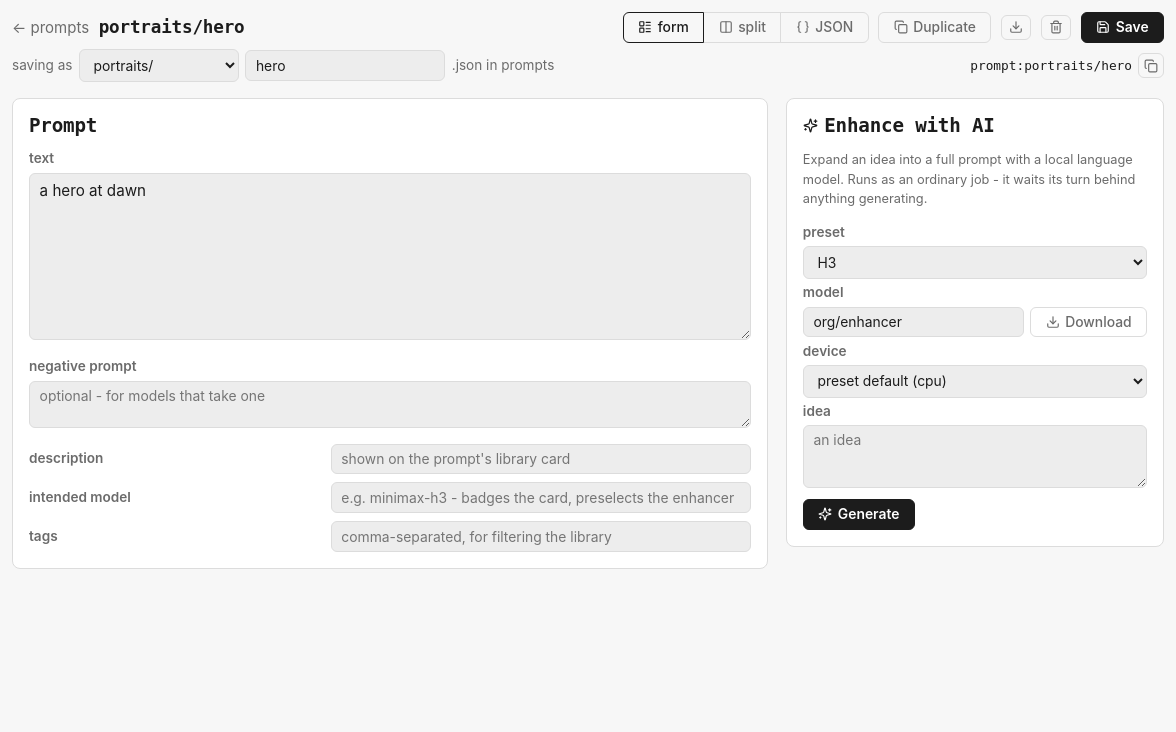
keeps an edit across form -> JSON -> form
Replace the text in the text box labelled "text" with "a hero at dusk" at (390, 257), box 29,173 -> 751,340
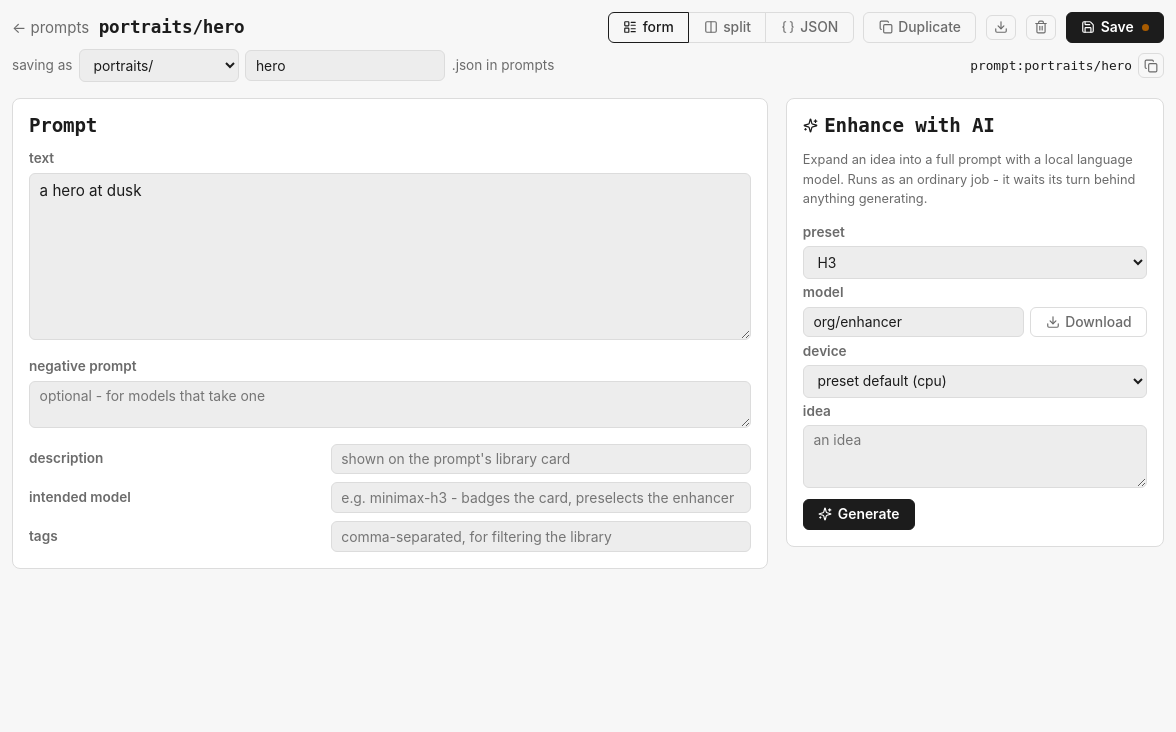
Click the button titled "edit the raw JSON, schema-aware" at (810, 27), box 765,12 -> 854,43
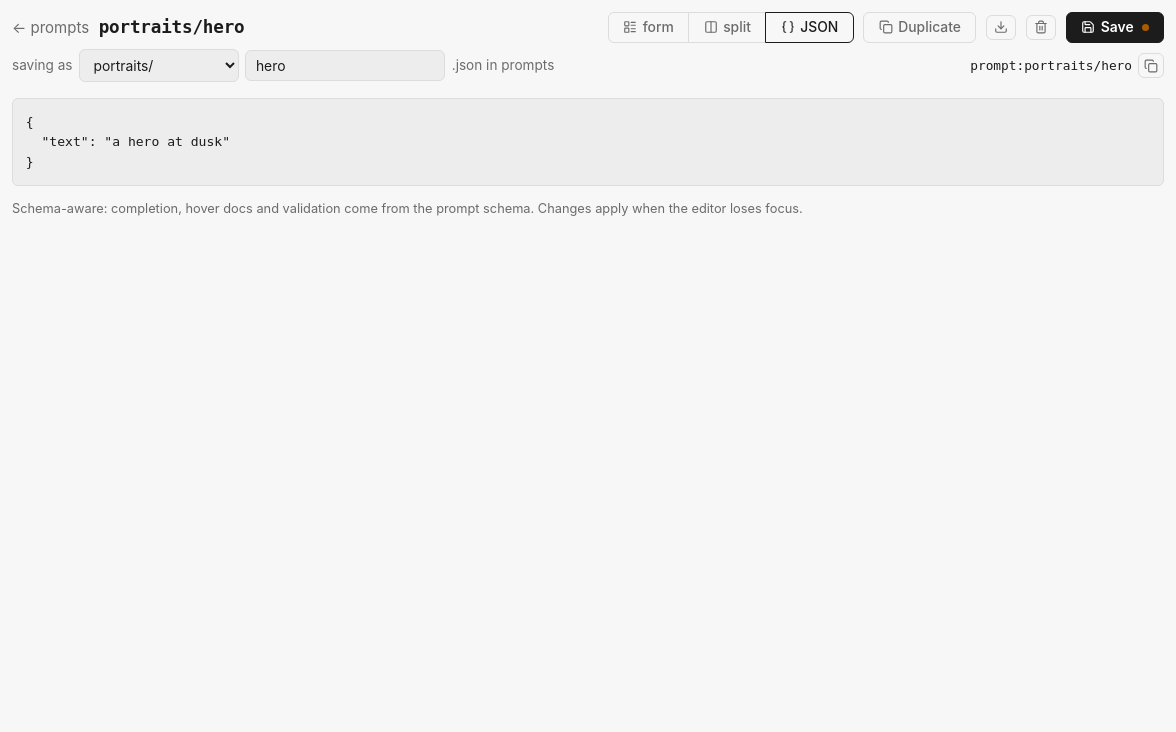
Expected: the text with test id "json-editor" shows "a hero at dusk", 26,114 -> 230,169
Click the button titled "edit with a form" at (648, 27), box 608,12 -> 689,43
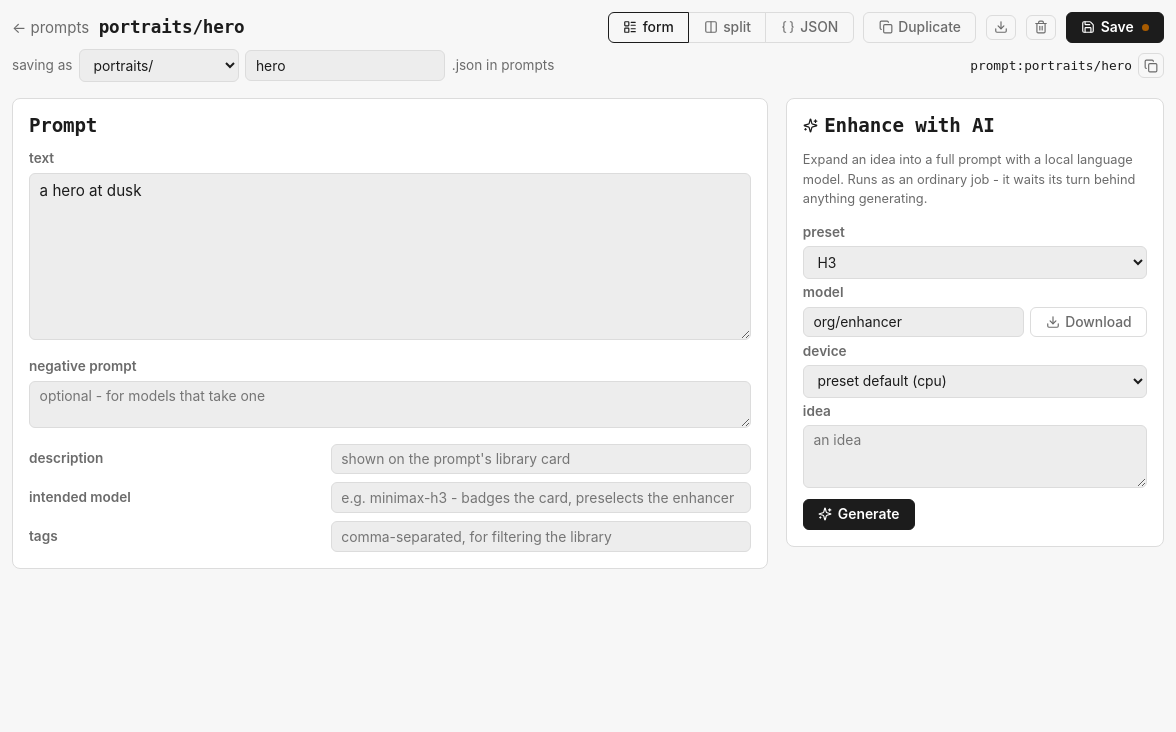
Expected: the text box labelled "text" holds "a hero at dusk", 29,173 -> 751,340
